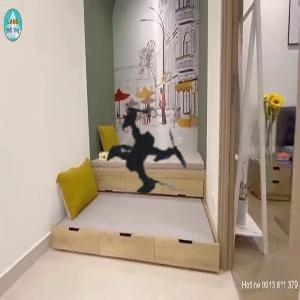drone: (26, 27, 272, 273)
